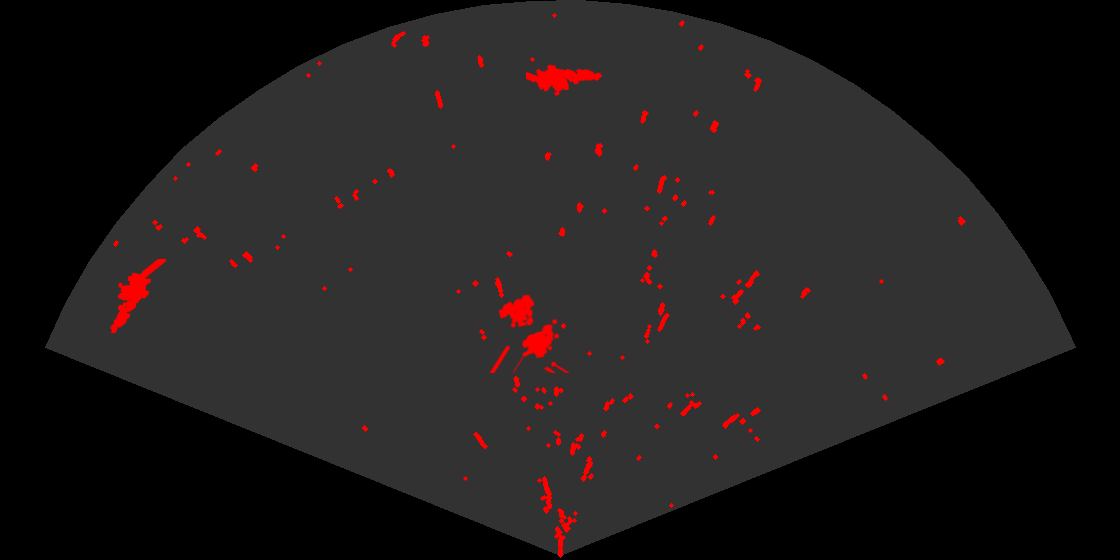cage: (488, 293, 572, 373)
frogman: (108, 259, 166, 335), (526, 63, 604, 97)
